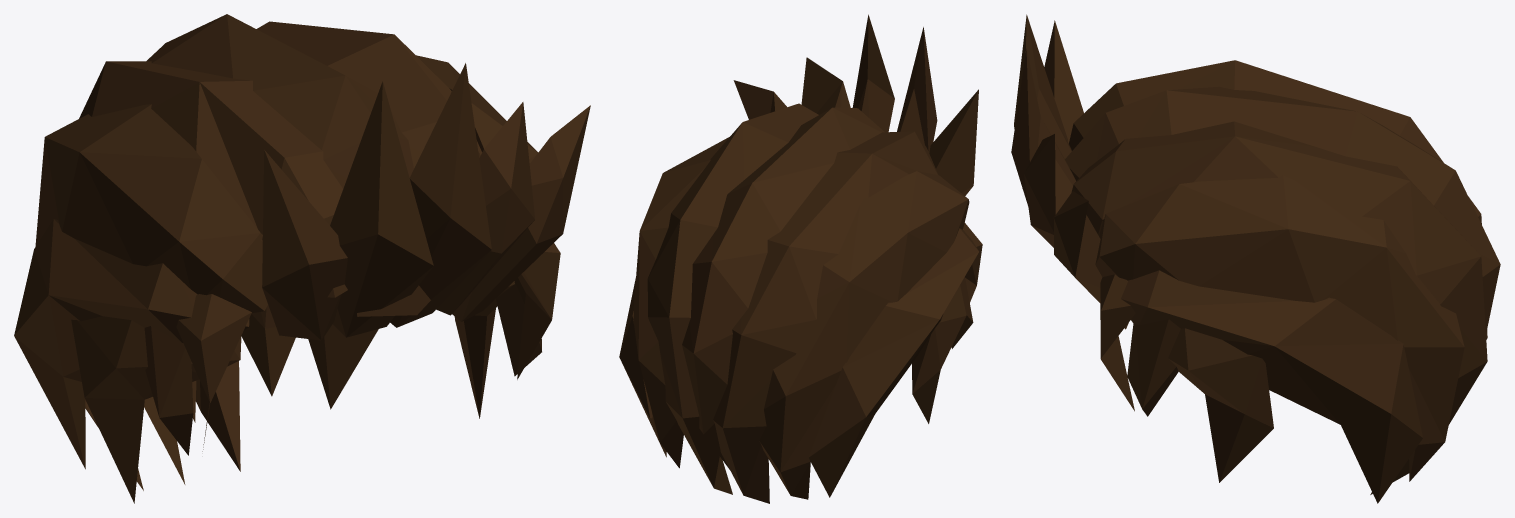
Rendered from hair-spiky.mid.edd93bb0.glb.
The picture shows the model from 3 angles, left to right: view 1: azimuth 30°, elevation 25°; view 2: azimuth 150°, elevation 25°; view 3: azimuth 270°, elevation 25°; orthographic projection. The views are drawn at different scales.
Parts seen in each view (by area): view 1: hair-spiky; view 2: hair-spiky; view 3: hair-spiky.
Boxes of the visible parts, x1,y1,x2,y2 form: hair-spiky: (14,14,590,503); hair-spiky: (619,14,982,503); hair-spiky: (1011,14,1500,503).
Size of the model in its own units: 0.2255 by 0.2723 by 0.2665.
